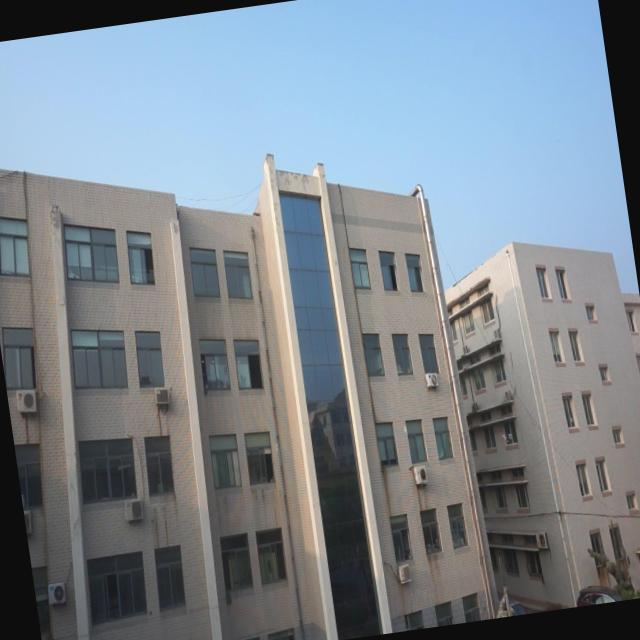drone: (498, 428, 514, 443)
